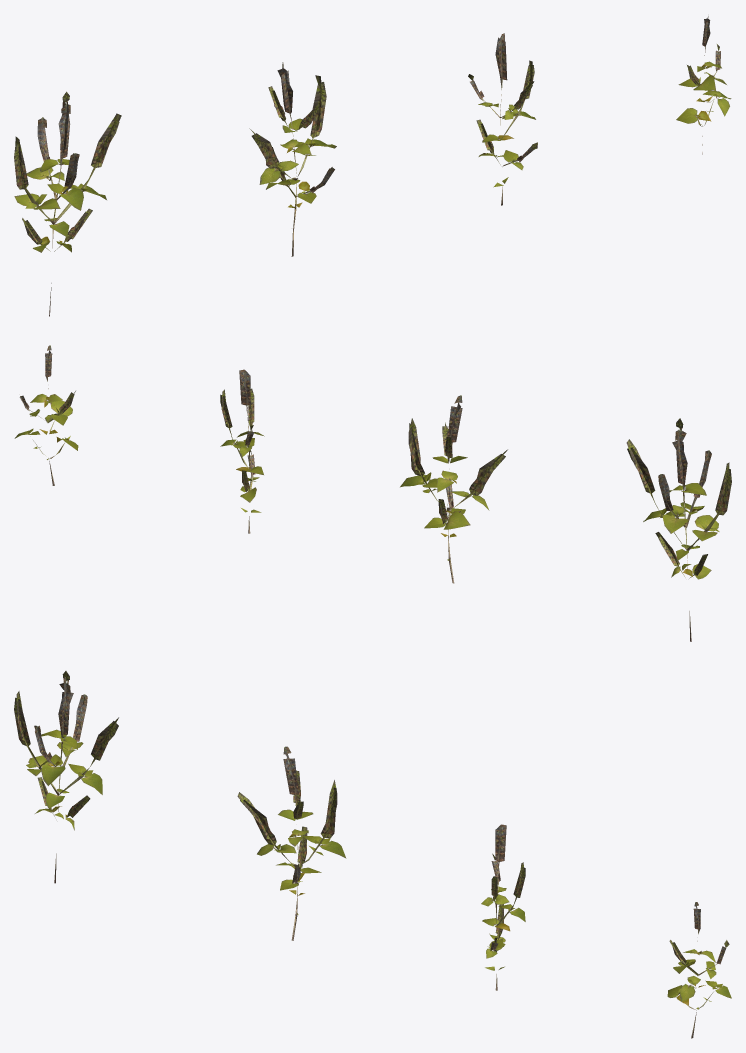
File: shrub_03.glb
3 renders of one model, top to bottom at view 1: azimuth 30°, elevation 25°; view 2: azimuth 150°, elevation 25°; view 3: azimuth 330°, elevation 25°, orthographic. The views are drawn at different scales.
Visible parts, largest first — view 1: shrub_03_a; view 2: shrub_03_a; view 3: shrub_03_a.
Boxes of the visible parts, x1,y1,x2,y2 form: shrub_03_a: [14, 16, 731, 316]; shrub_03_a: [14, 345, 731, 641]; shrub_03_a: [14, 671, 731, 1038].
Bounding box in the file's own units: 1.37 × 0.4028 × 0.1512.
1 material, 1 textured.
